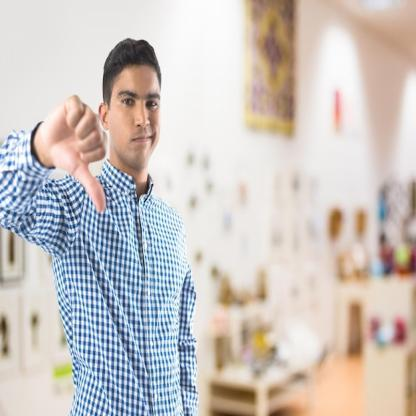thumb_down: (38, 92, 111, 215)
